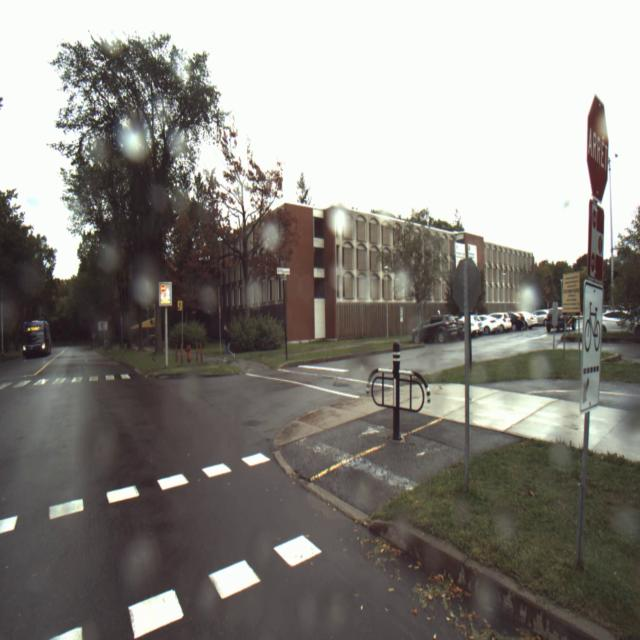truck: (21, 317, 51, 360)
